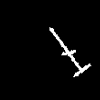double_crochet: (50, 28, 90, 76)
